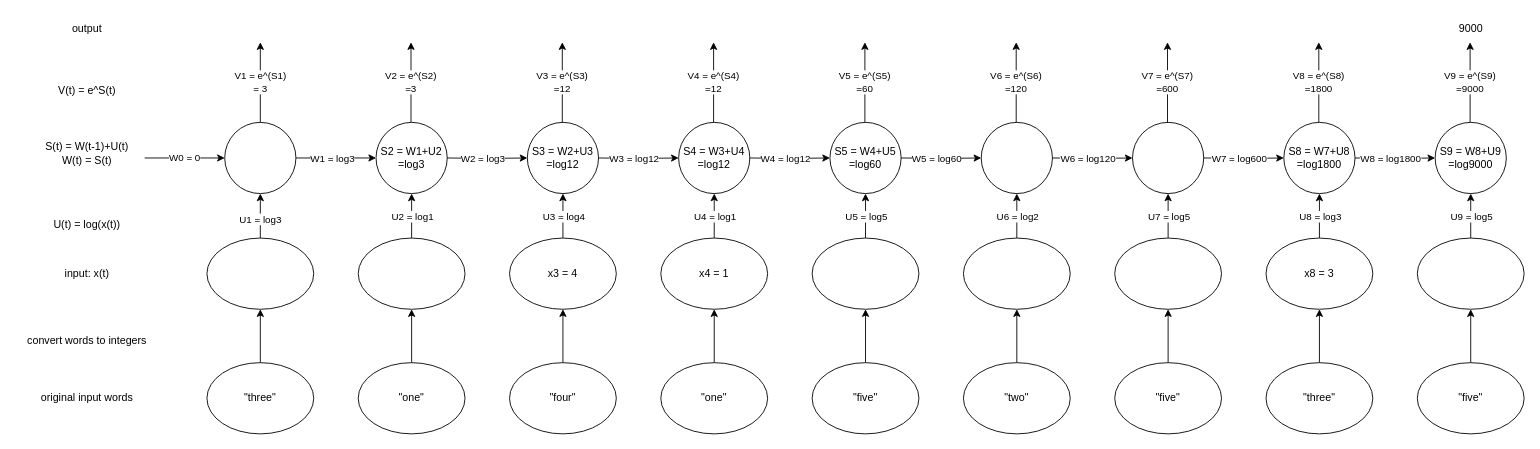
This 1540x449 diagram has some shape labels left out. The shapes that lost their labels are listed below. From the top down, each one's centre as x and y in pixels, then its label:
At [260,157]: "S1 = W0+U1 =log3".
At [1016,157]: "S6 = W5+U6 =log120".
At [1168,157]: "S7 = W6+U7 =log600".
At [260,273]: "x1=3".
At [411,273]: "x2 = 1".
At [865,273]: "x5 = 5".
At [1016,273]: "x6 = 2".
At [1168,273]: "x7 = 5".
At [1470,273]: "x9 = 5".
